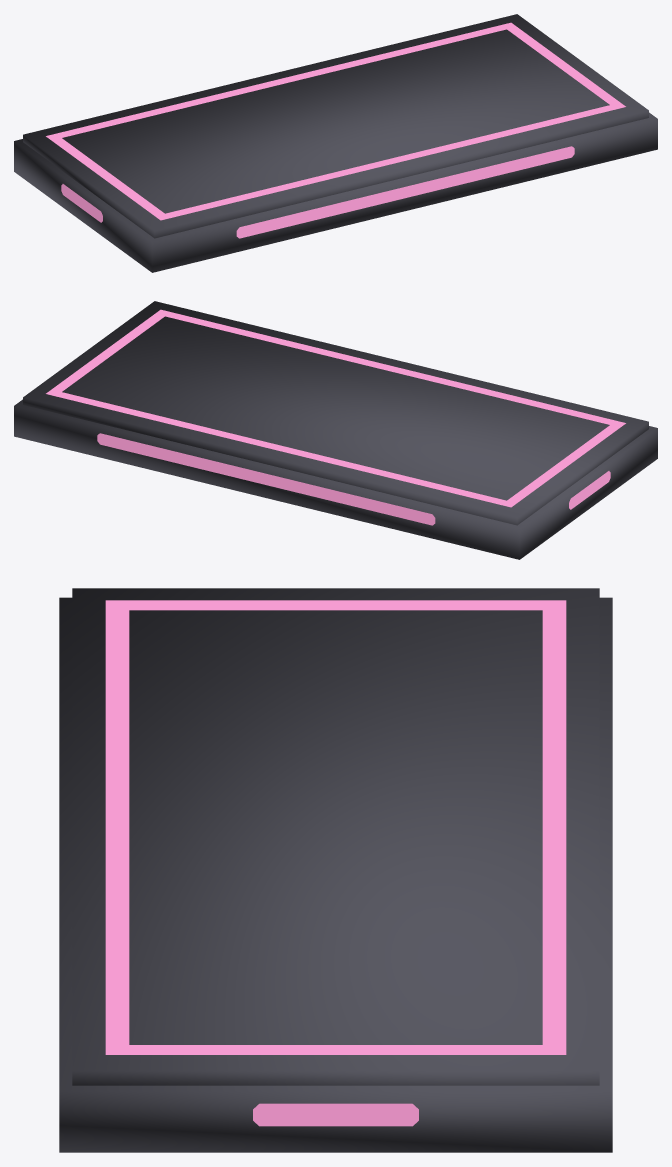
Rendered from floatingPlatform.glb.
3 views of the same model, one above another, from view 1: azimuth 30°, elevation 25°; view 2: azimuth 150°, elevation 25°; view 3: azimuth 270°, elevation 25° (orthographic). The views are drawn at different scales.
Visible parts, largest first — view 1: PlatformSmallPink; view 2: PlatformSmallPink; view 3: PlatformSmallPink.
Boxes of the visible parts, x1,y1,x2,y2 form: PlatformSmallPink: (14, 14, 657, 272); PlatformSmallPink: (14, 301, 657, 559); PlatformSmallPink: (59, 588, 612, 1152).
Size of what is drawn, in the model's own units: 3.81 by 0.2806 by 1.81.
Materials: 2 (2 with a texture image).
